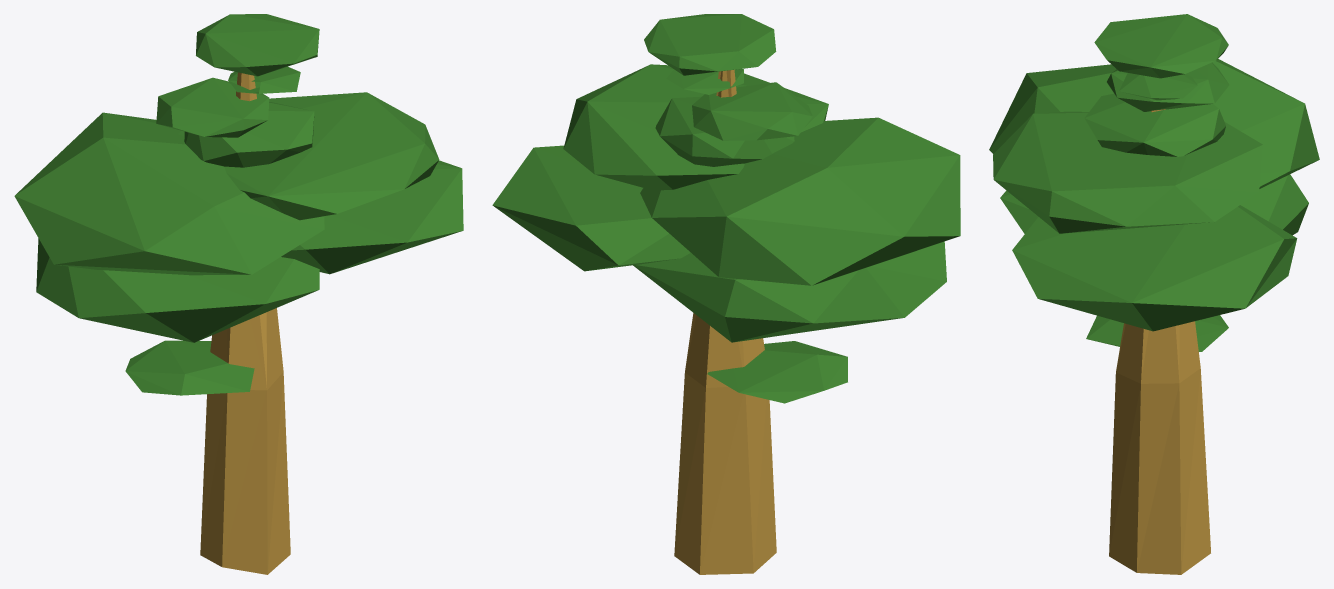
File: Tree.fbx
3 views of the same model, side by side, from view 1: azimuth 30°, elevation 25°; view 2: azimuth 150°, elevation 25°; view 3: azimuth 270°, elevation 25° (orthographic). The views are drawn at different scales.
Visible parts, largest first — view 1: Tree; view 2: Tree; view 3: Tree.
Part boxes in pixels (x1,y1,x2,y2): Tree: (14,14,463,574); Tree: (492,14,960,574); Tree: (989,14,1319,574).
Bounding box in the file's own units: 9.57 × 11.44 × 6.47.
